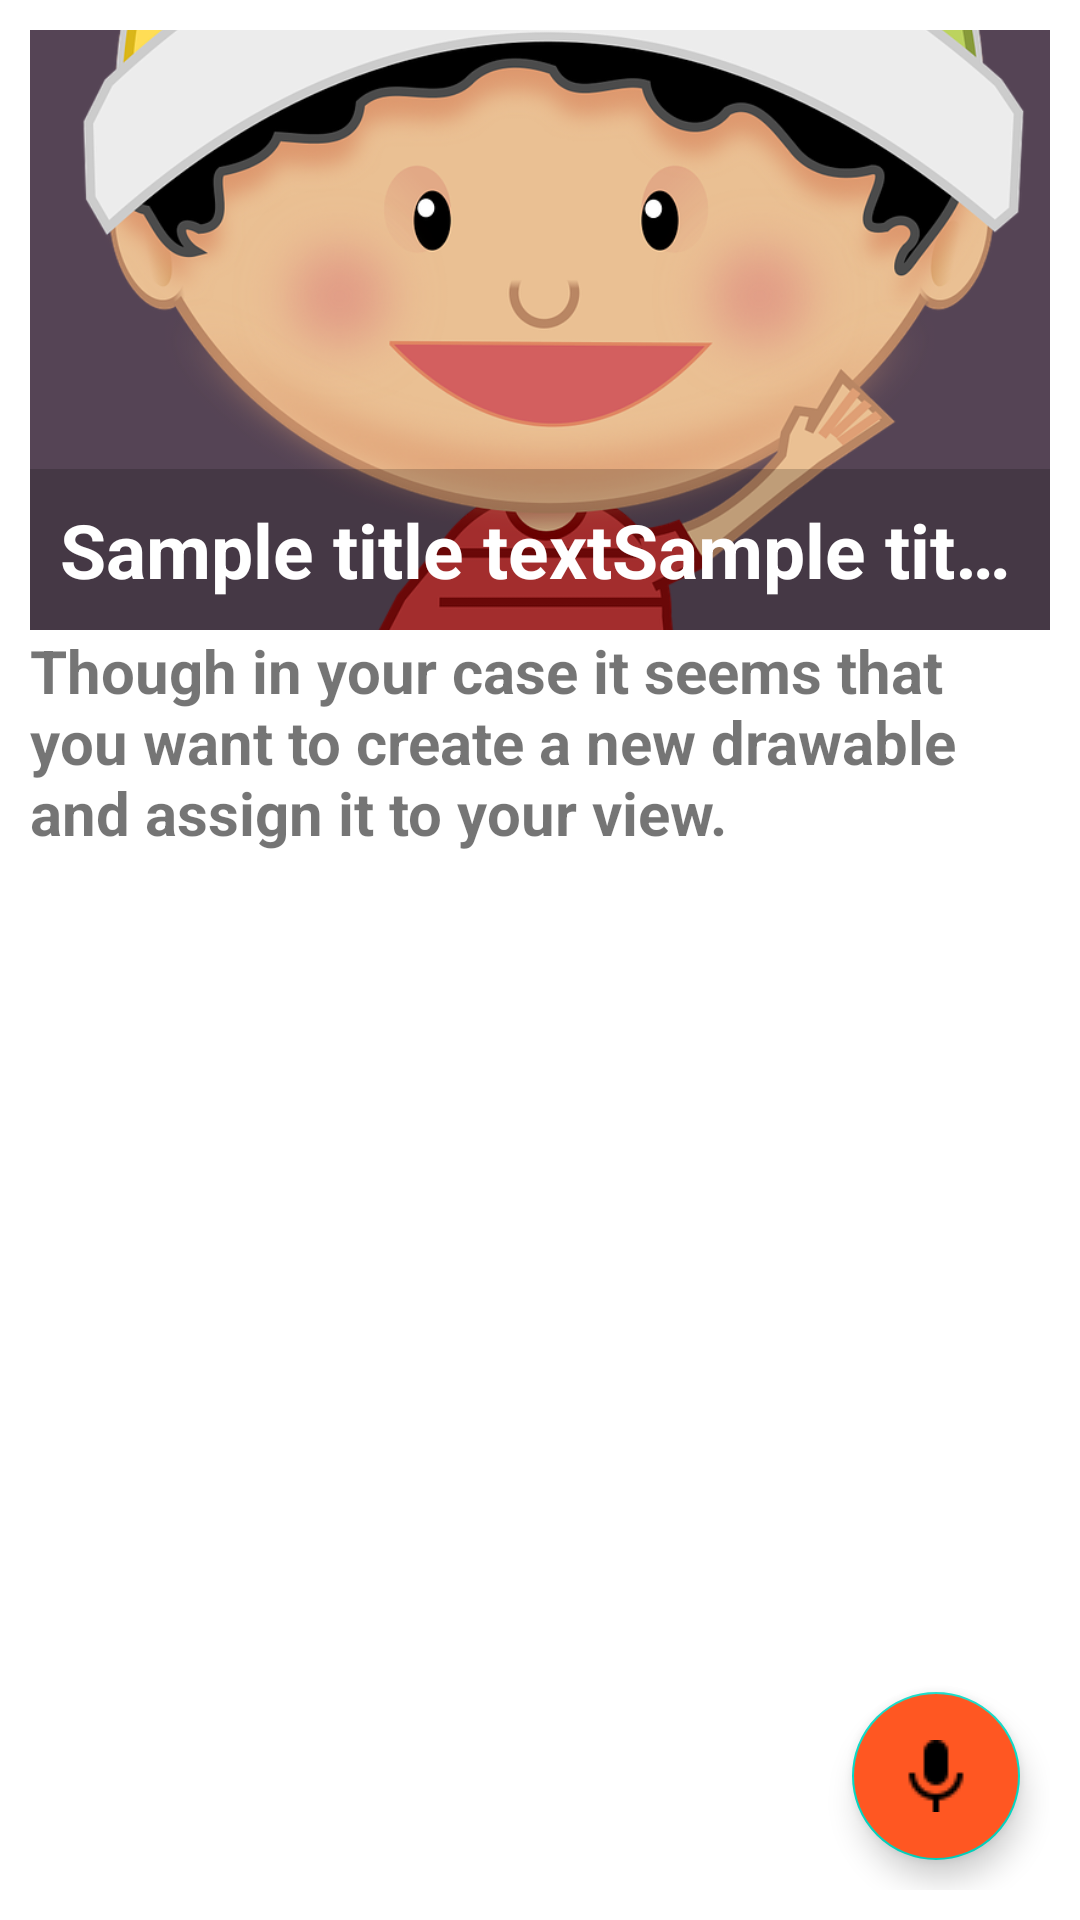

Where icons sit on this 1080*1920 app screen, as (x1, y1, x2, y2):
microphone: (852, 1692, 1020, 1860)
